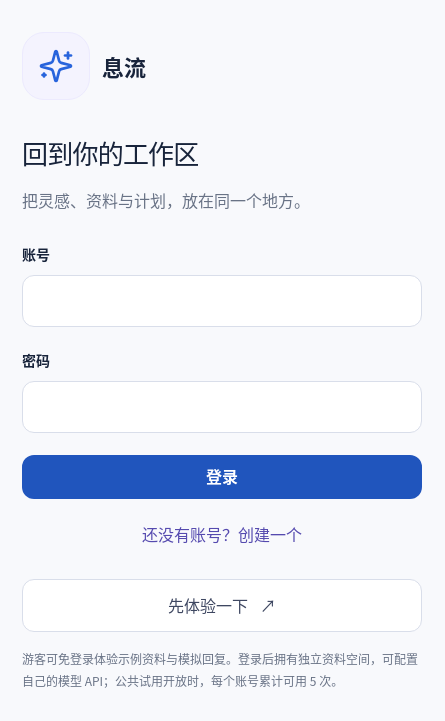
offers a separate guest build and shows real login errors
Type "alice" into the field labelled "账号".
click(222, 301); type("alice")  # box x1=22 y1=275 x2=422 y2=327
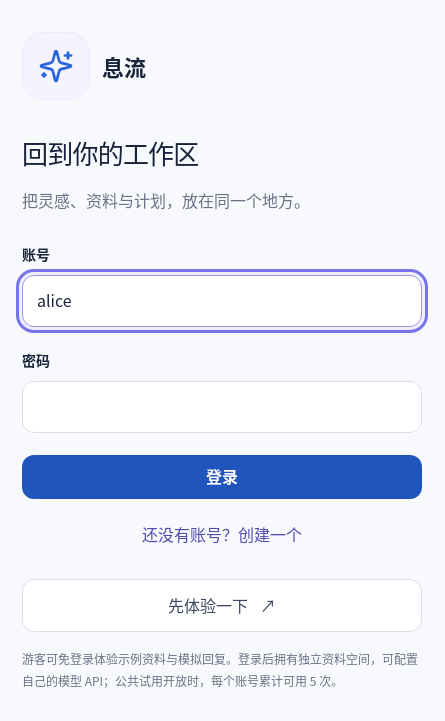
Type "long-enough-password" into the password field labelled "密码".
click(222, 407); type("long-enough-password")  # box x1=22 y1=381 x2=422 y2=433
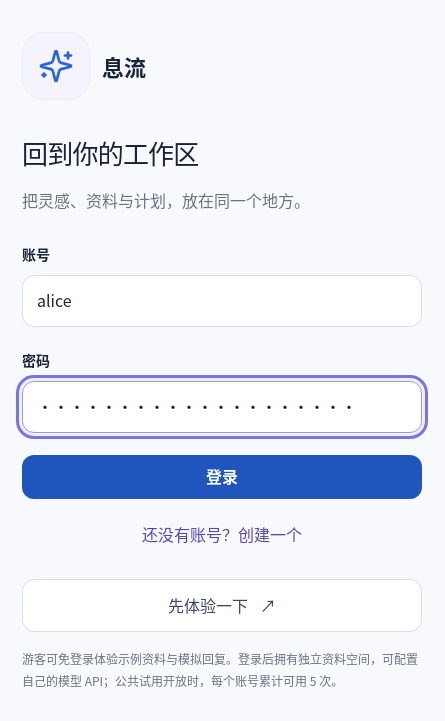
Click the button "登录".
click(222, 477)  # box x1=22 y1=455 x2=422 y2=499
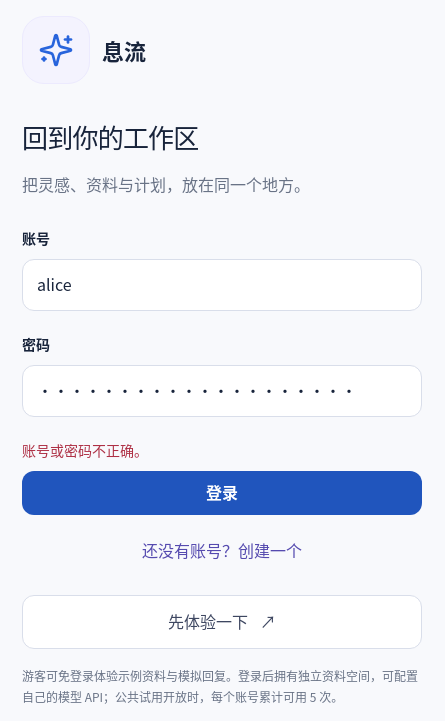
Now the message reads "账号或密码不正确。", box x1=22 y1=440 x2=148 y2=460
